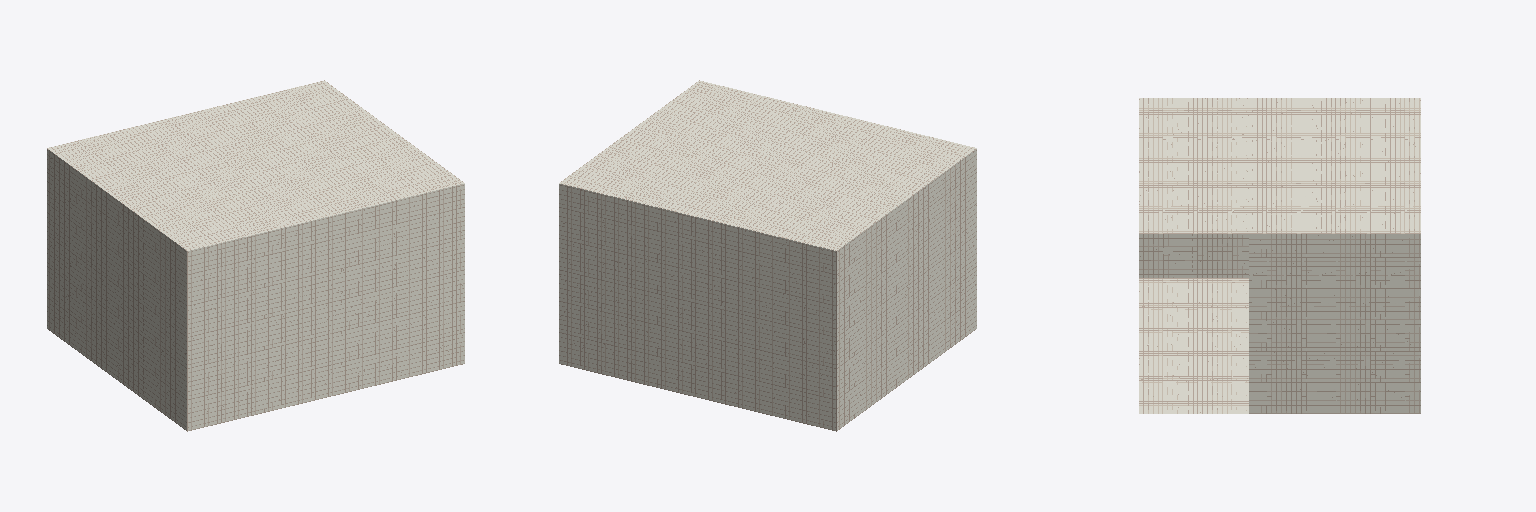
3 views of the same model, side by side, from view 1: azimuth 30°, elevation 25°; view 2: azimuth 150°, elevation 25°; view 3: azimuth 270°, elevation 25° (orthographic).
Parts seen in each view (by area): view 1: bathroom; view 2: bathroom; view 3: bathroom.
Part boxes in pixels (x1,y1,x2,y2): bathroom: (47, 80, 464, 431); bathroom: (559, 80, 976, 431); bathroom: (1139, 98, 1420, 413).
Size of the model in its own units: 9.29 by 5.77 by 8.15.
Materials: 1 (1 with a texture image).